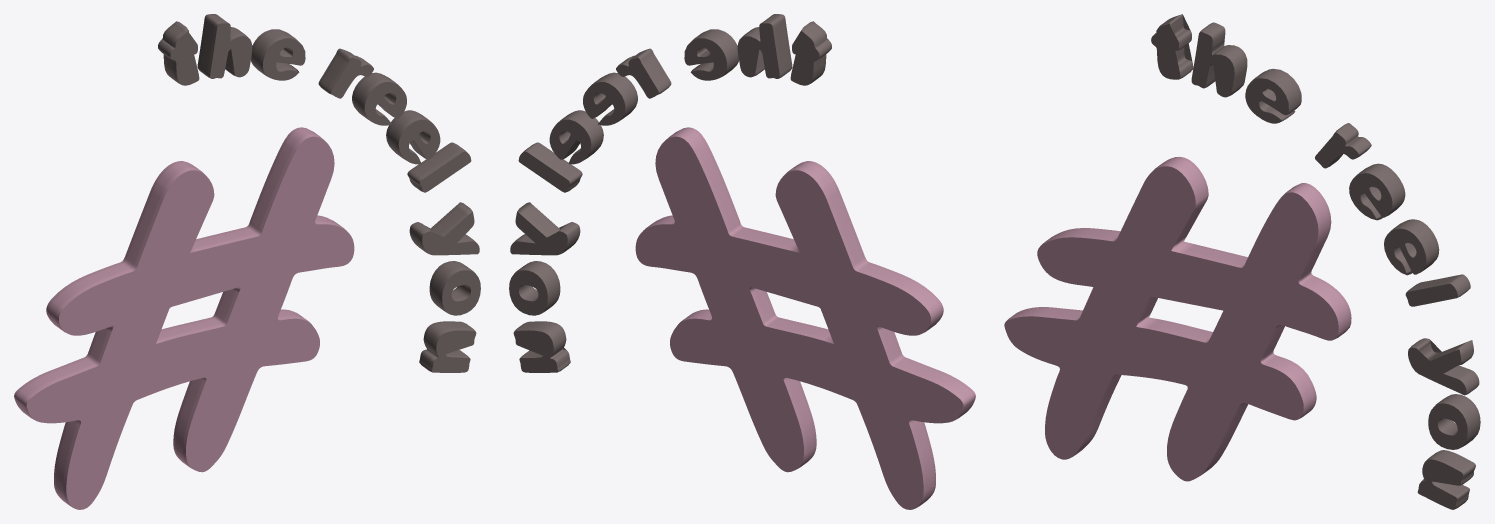
File: thereelyou.fbx
The picture shows the model from 3 angles, left to right: view 1: azimuth 30°, elevation 25°; view 2: azimuth 150°, elevation 25°; view 3: azimuth 330°, elevation 25°; orthographic projection. The views are drawn at different scales.
Parts seen in each view (by area): view 1: polySurface1; view 2: polySurface1; view 3: polySurface1.
Boxes of the visible parts, x1=… form: polySurface1: x1=14, y1=14, x2=480, y2=509; polySurface1: x1=509, y1=14, x2=975, y2=509; polySurface1: x1=1004, y1=14, x2=1480, y2=509.
Size of the model in its own units: 78.35 by 74.81 by 3.75.
